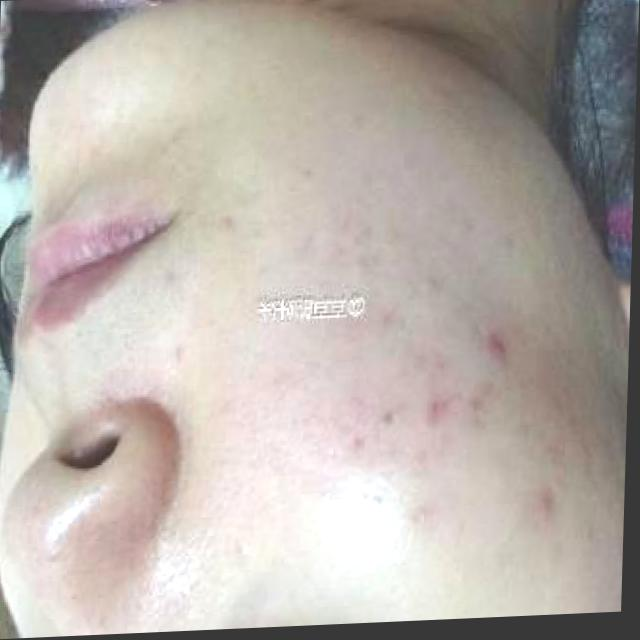blackheads: (481, 328, 518, 383), (536, 487, 565, 534), (231, 534, 264, 573), (217, 212, 241, 241)
